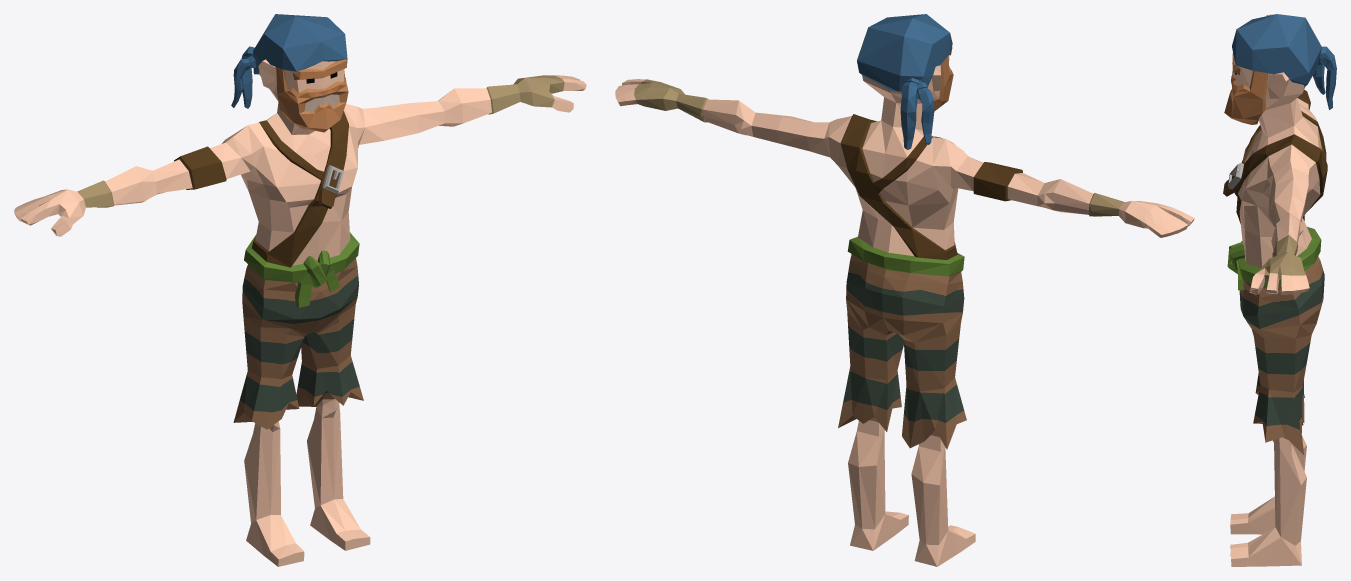
File: ladron.fbx
3 views of the same model, side by side, from view 1: azimuth 30°, elevation 25°; view 2: azimuth 150°, elevation 25°; view 3: azimuth 270°, elevation 25° (orthographic).
Visible parts, largest first — view 1: Character_Pirate_Deckhand_01; view 2: Character_Pirate_Deckhand_01; view 3: Character_Pirate_Deckhand_01.
Part boxes in pixels (x1,y1,x2,y2): Character_Pirate_Deckhand_01: [14, 14, 586, 566]; Character_Pirate_Deckhand_01: [615, 14, 1194, 566]; Character_Pirate_Deckhand_01: [1223, 14, 1336, 566].
Bounding box in the file's own units: 80.61 × 14.04 × 71.75.
Materials: 1 (1 with a texture image).
